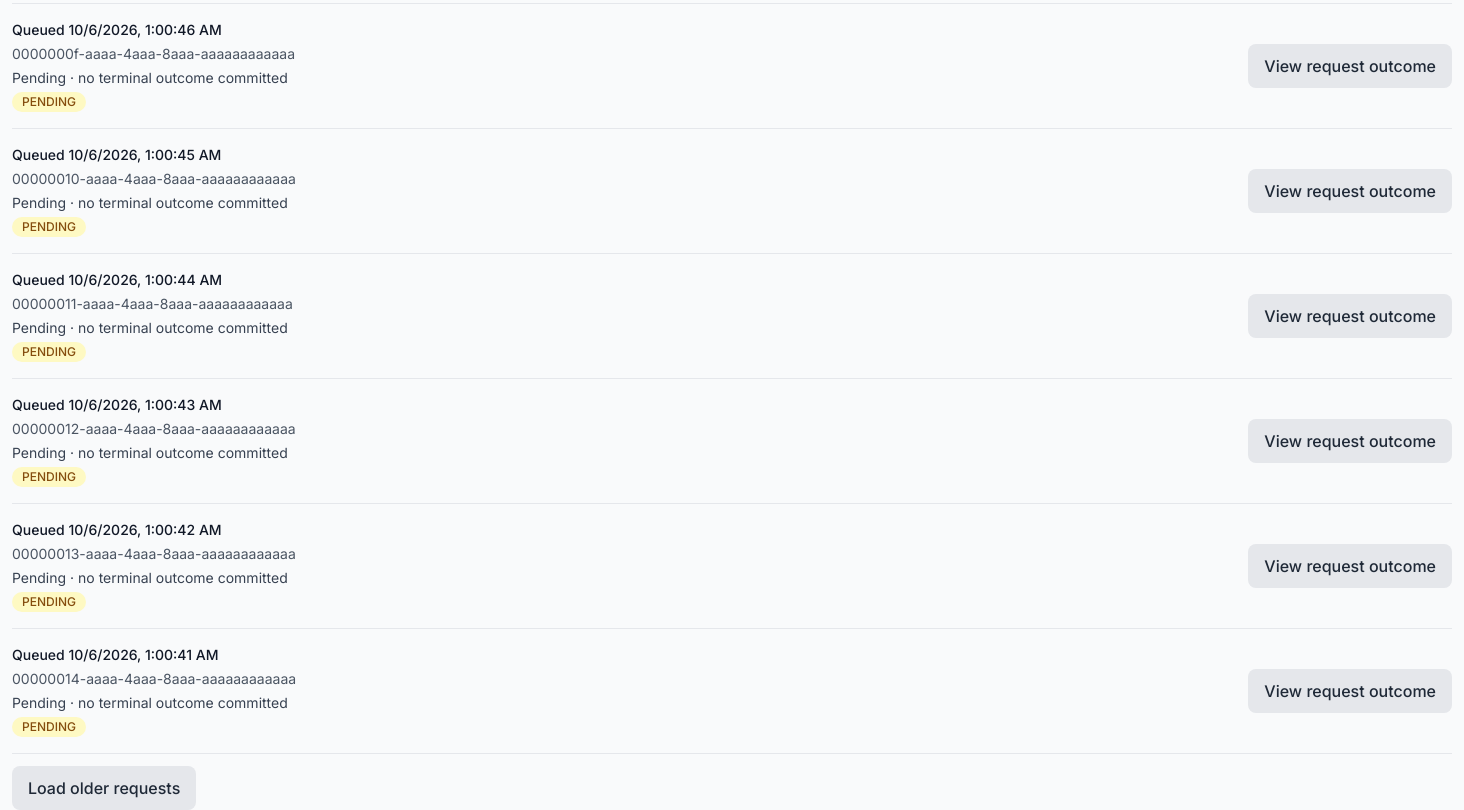
it: bounded read-only simulation request history › retries the exact failed continuation and retains the trusted previous boundary
(page scrolled)
Click the button "Load older requests" at (104, 788), box 12,766 -> 196,809
(page scrolled)
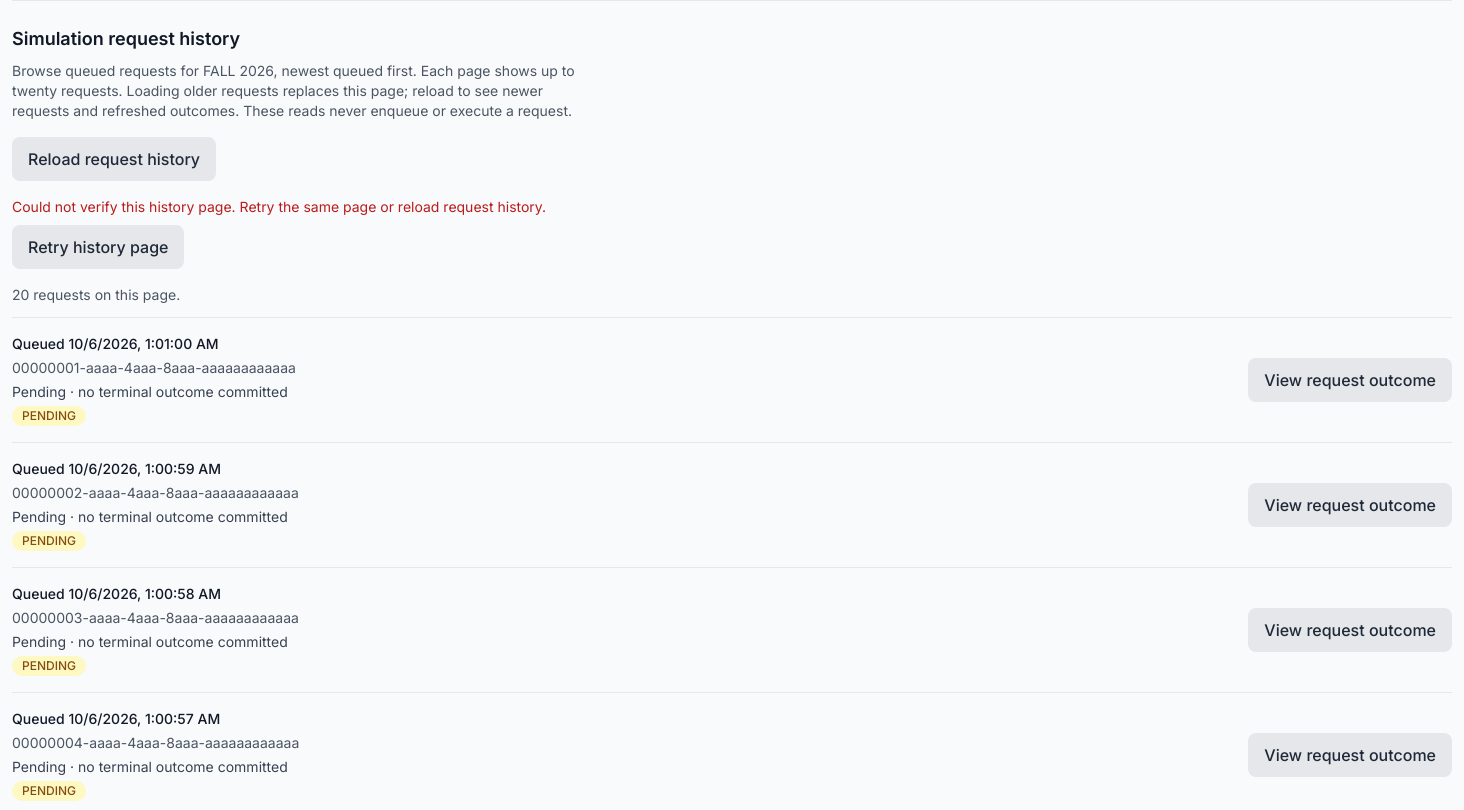
Check: the message does not show "SECRET", box 12,197 -> 586,217
Check: the message is shown, box 12,197 -> 586,217
Click the button "Retry history page" at (98, 247), box 12,225 -> 184,269
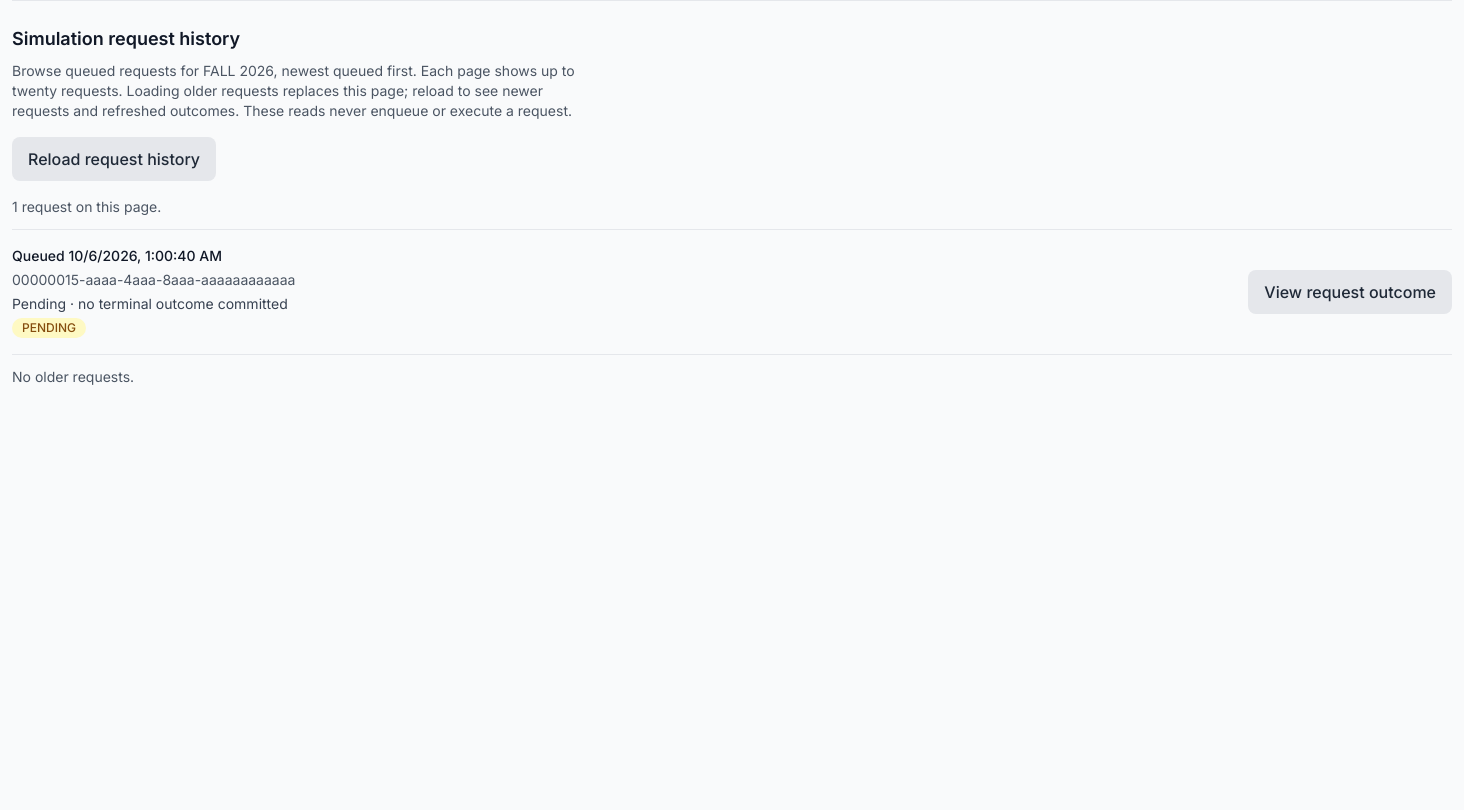
Check: the button "Reload request history" is enabled, box 12,137 -> 216,181
Check: the number of list items is 1, box 12,230 -> 1452,354
